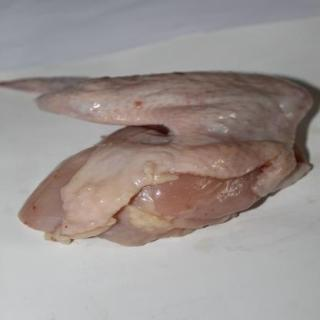Ayam: (4, 74, 319, 248)
